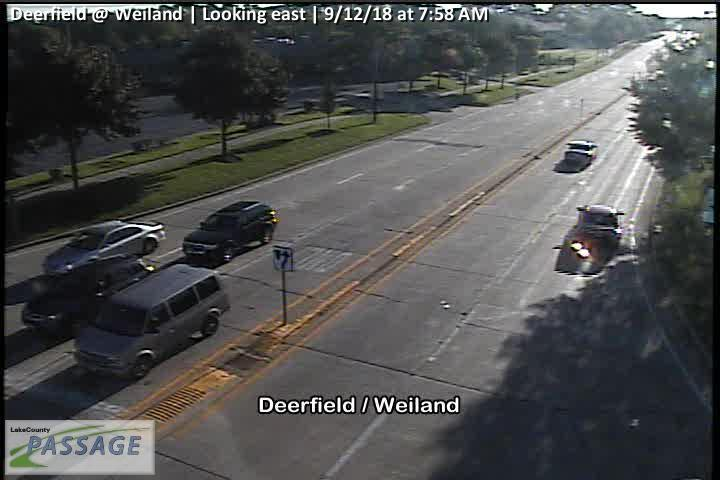SUV: (73, 261, 230, 381), (20, 252, 159, 342), (182, 199, 278, 264), (576, 203, 624, 243), (564, 139, 598, 162)
Sedan: (42, 220, 167, 274)
